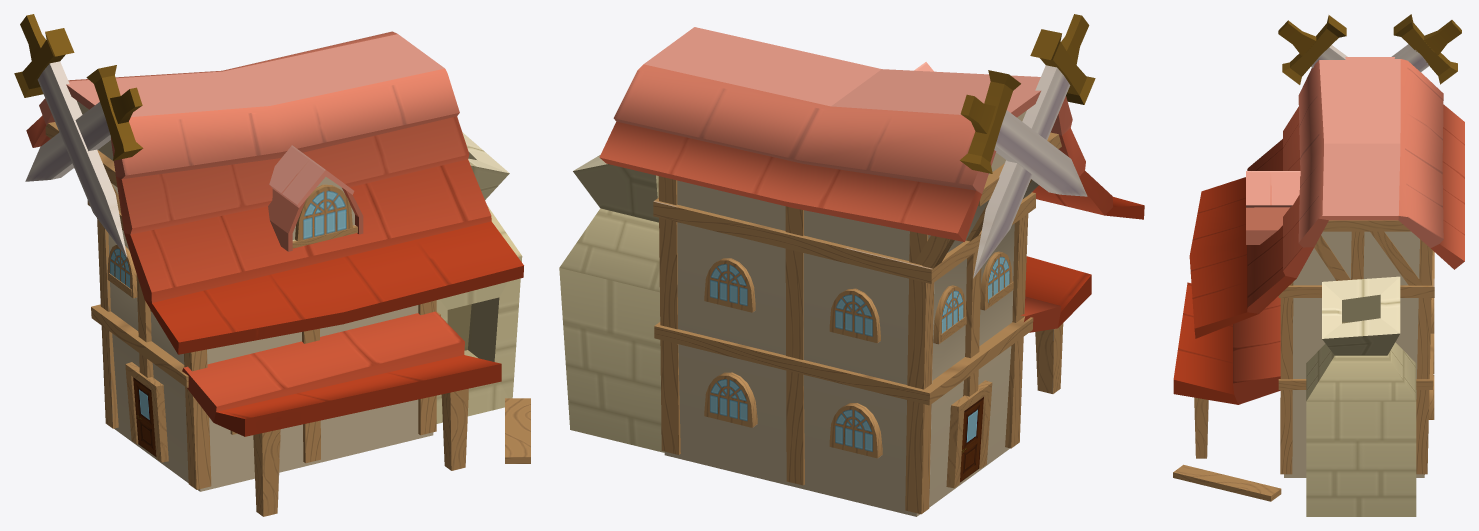
Rendered from building_weapon_lv4.FBX.
3 renders of one model, left to right at view 1: azimuth 30°, elevation 25°; view 2: azimuth 150°, elevation 25°; view 3: azimuth 270°, elevation 25°, orthographic. The views are drawn at different scales.
Visible parts, largest first — view 1: building_weapon_roof_lv4, building_weapon_lv4, building_weapon_main_lv4; view 2: building_weapon_main_lv4, building_weapon_lv4, building_weapon_roof_lv4; view 3: building_weapon_roof_lv4, building_weapon_main_lv4, building_weapon_lv4.
Part boxes in pixels (box(x1,y1,x2,y2)): building_weapon_roof_lv4: box(26, 31, 523, 436); building_weapon_lv4: box(14, 14, 530, 516); building_weapon_main_lv4: box(77, 101, 522, 491); building_weapon_main_lv4: box(559, 110, 1038, 516); building_weapon_lv4: box(653, 14, 1095, 514); building_weapon_roof_lv4: box(599, 27, 1144, 332); building_weapon_roof_lv4: box(1173, 57, 1464, 404); building_weapon_main_lv4: box(1284, 231, 1424, 516); building_weapon_lv4: box(1173, 14, 1461, 501).
Bounding box in the file's own units: 532 × 519 × 399.
